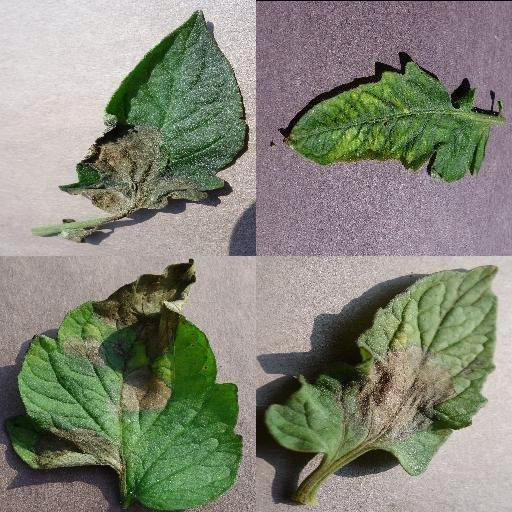Late Blight: (4, 256, 244, 512), (264, 262, 500, 478), (56, 7, 248, 217)
Mosaic Virus: (281, 61, 491, 183)
